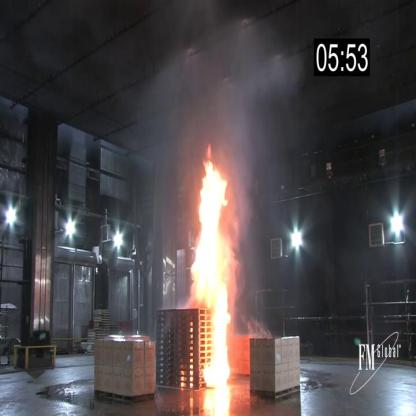fire: (187, 144, 234, 396)
